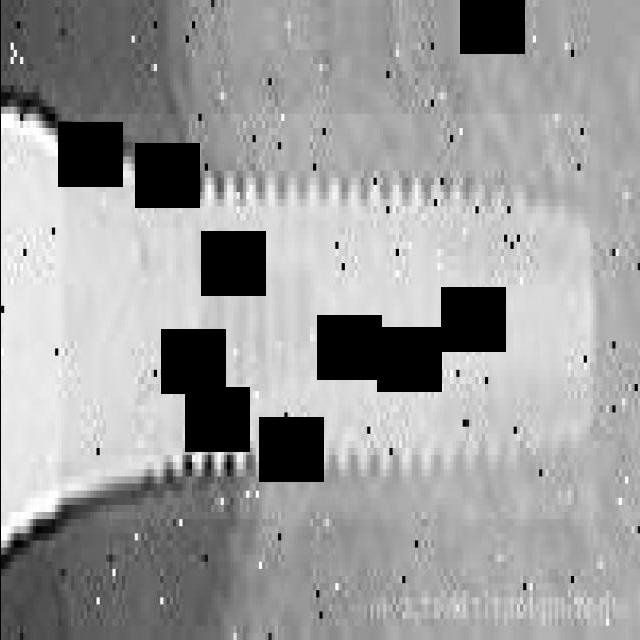Retained root: (0, 114, 602, 532)
